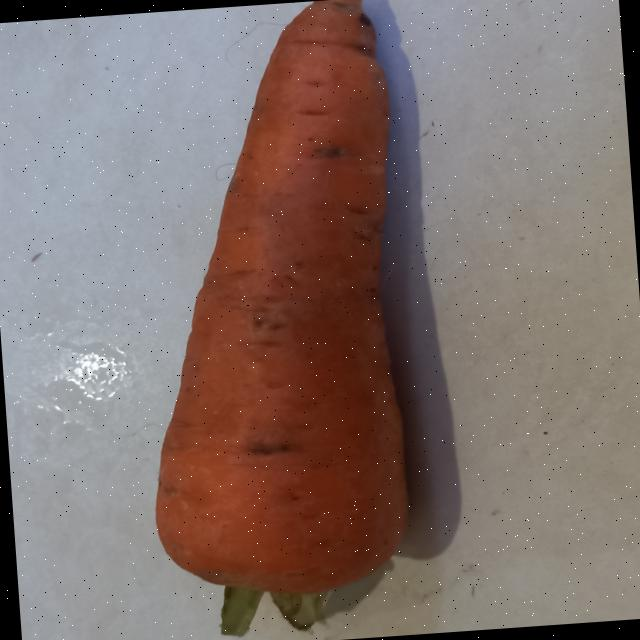carrot: (156, 0, 407, 593)
